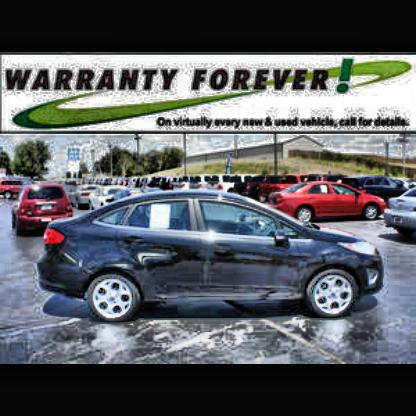Ford Fiesta Sedan 2012: (40, 193, 385, 323)
